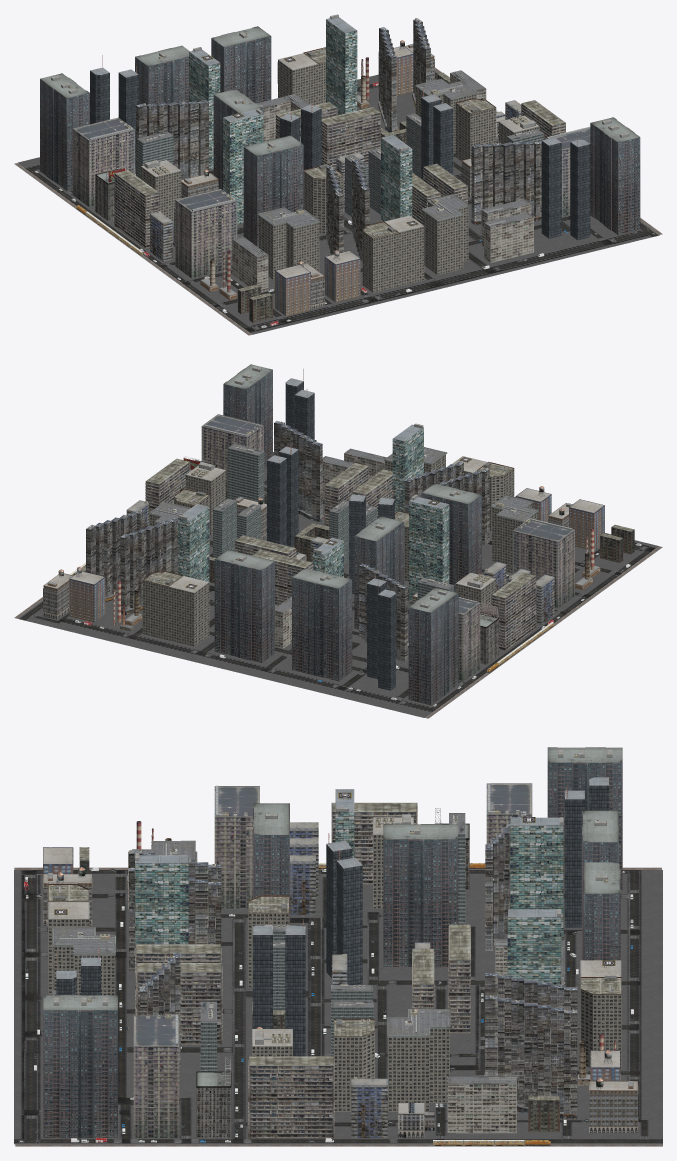
The model's file is city_a.glb.
3 renders of one model, top to bottom at view 1: azimuth 30°, elevation 25°; view 2: azimuth 150°, elevation 25°; view 3: azimuth 270°, elevation 25°, orthographic. The views are drawn at different scales.
Visible parts, largest first — view 1: Plane_504, Building2_8, Building2.005_447, Building12.002_173, Building3.002_463, Building2.003_272, Building12.005_400, Building3.001_278, Building2.002_209, building.018_337, building.012_219, Building1.001_200 (+50 smaller); view 2: Plane_504, Building2.002_209, Building2.004_430, Building2.003_272, Building3.002_463, Building1.002_265, Building12.001_99, Building2.005_447, Building2.001_205, Building2_8, building.007_165, Building12_104 (+45 smaller); view 3: Plane_504, Building2_8, Building2.001_205, Building12_104, Building5_51, building.001_97, Building3_14, Building1_1, Building1.003_425, Building3.002_463, Building2.003_272, Building10_132 (+49 smaller).
Part boxes in pixels (box(x1,y1,x2,y2)): Plane_504: box(18, 71, 659, 334); Building2_8: box(590, 117, 640, 234); Building2.005_447: box(243, 135, 303, 247); Building12.002_173: box(471, 140, 541, 220); Building3.002_463: box(175, 189, 237, 278); Building2.003_272: box(40, 73, 89, 190); Building12.005_400: box(136, 100, 208, 177); Building3.001_278: box(73, 117, 134, 207); Building2.002_209: box(211, 26, 271, 103); building.018_337: box(257, 207, 320, 279); building.012_219: box(421, 194, 469, 274); Building1.001_200: box(326, 17, 357, 115); Plane_504: box(18, 452, 658, 717); Building2.002_209: box(214, 549, 274, 662); Building2.004_430: box(292, 568, 352, 681); Building2.003_272: box(408, 587, 458, 705); Building3.002_463: box(513, 520, 574, 608); Building1.002_265: box(409, 497, 449, 605); Building12.001_99: box(120, 517, 177, 610); Building2.005_447: box(421, 483, 481, 592); Building2.001_205: box(354, 516, 404, 629); Building2_8: box(223, 364, 272, 468); building.007_165: box(168, 576, 209, 646); Building12_104: box(86, 509, 145, 597); Plane_504: box(14, 870, 662, 1144); Building2_8: box(43, 995, 117, 1138); Building2.001_205: box(383, 824, 458, 967); Building12_104: box(485, 996, 577, 1113); Building5_51: box(248, 1056, 334, 1138); building.001_97: box(387, 1009, 450, 1111); Building3_14: box(133, 1015, 179, 1137); Building1_1: box(510, 817, 563, 939); Building1.003_425: box(135, 855, 188, 1006); Building3.002_463: box(214, 786, 259, 908); Building2.003_272: box(547, 747, 622, 890); Building10_132: box(447, 1076, 516, 1133).
Bounding box in the file's own units: 407 × 104 × 400.
6 materials, 6 textured.
